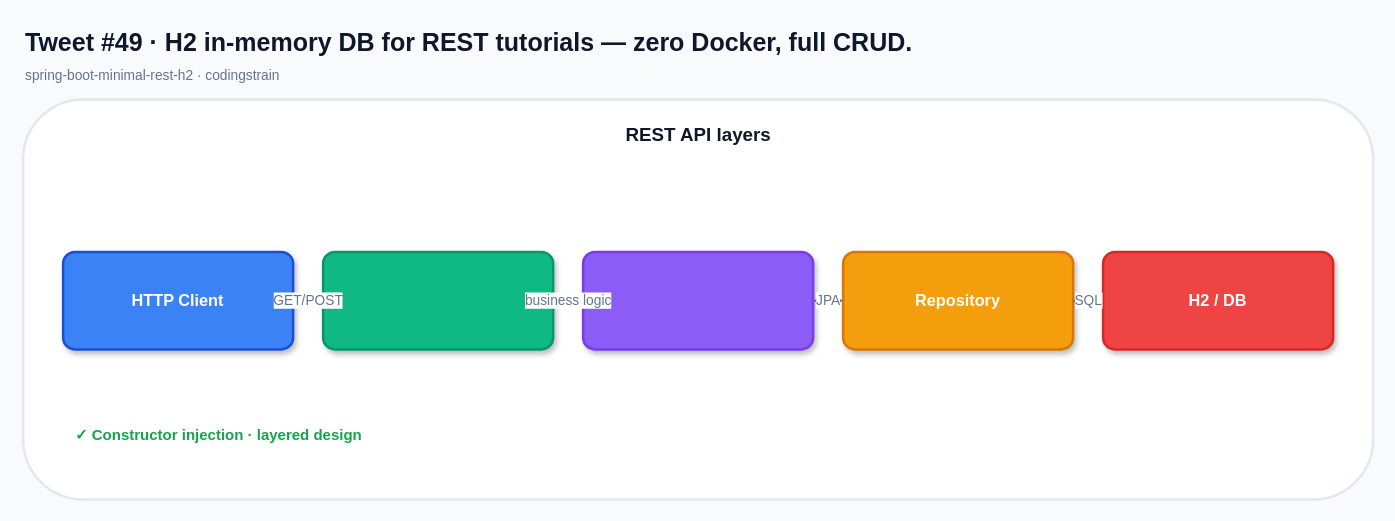
The diagram is 1395 pixels wide and 521 high, and some of its shapes have lost their labels. The centre of each missing label's shape, as x and y in pixels:
@RestController: [438,302]
Service: [698,302]
